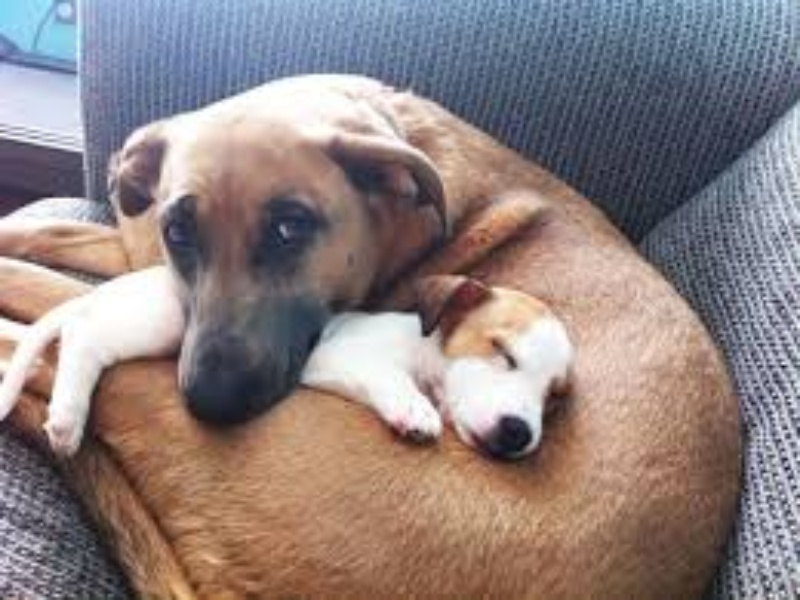dog: (8, 68, 760, 592)
